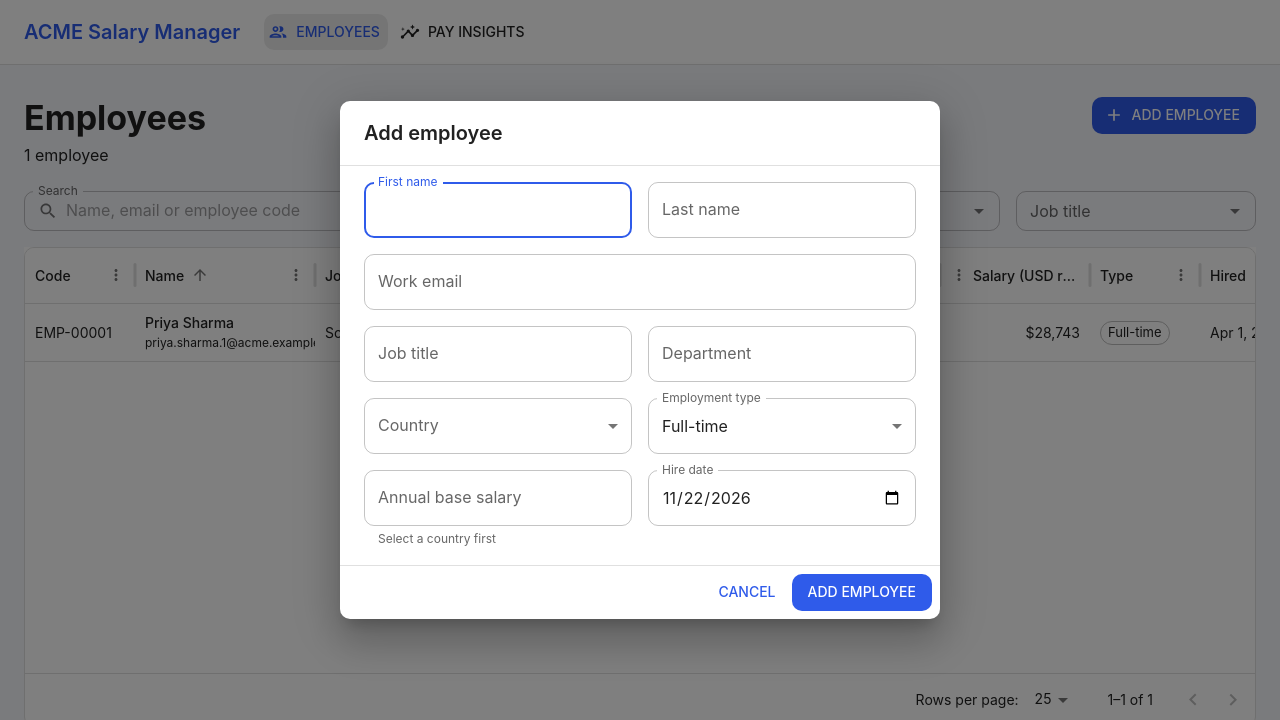
Test: managing employees › validates required fields before calling the API
Earlier steps of the test are not shown.
Press the mouse on the button "Add employee" at (862, 592), box top-left (792, 574), bottom-right (932, 611)
Press the mouse on the button "Add employee" at (862, 592), box top-left (792, 574), bottom-right (932, 611)
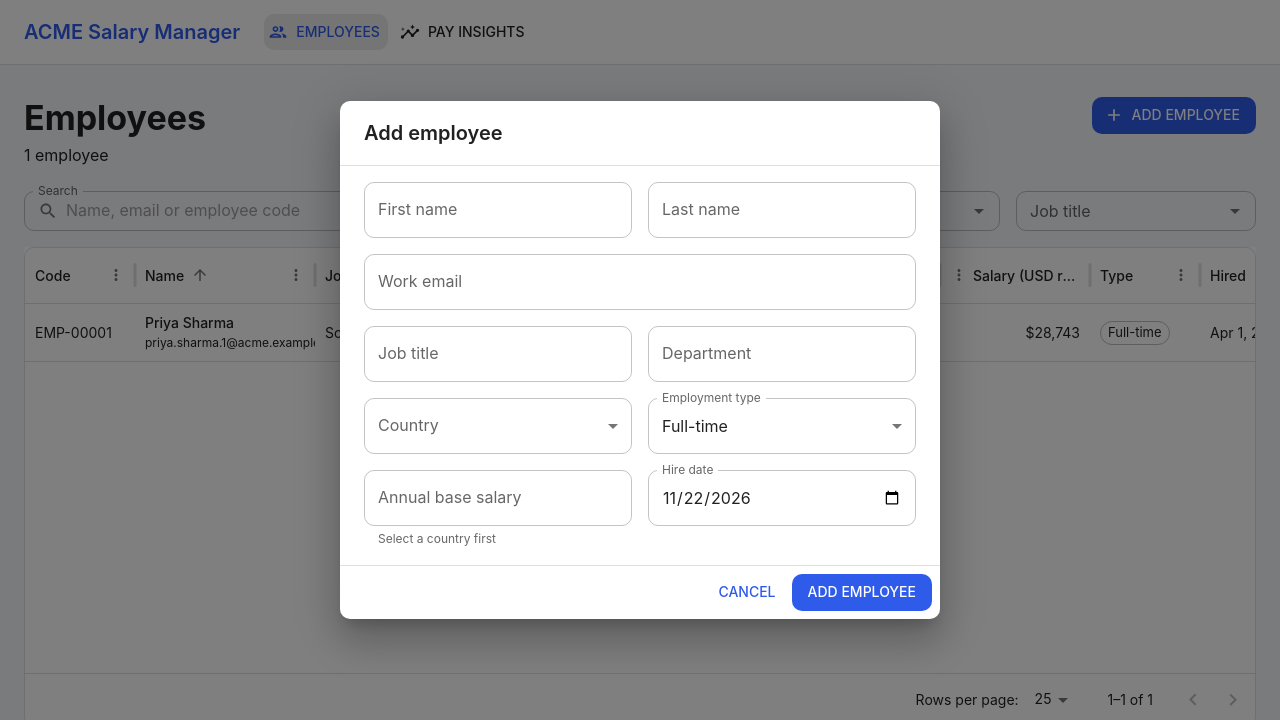
Click the button "Add employee" at (862, 592), box top-left (792, 574), bottom-right (932, 611)
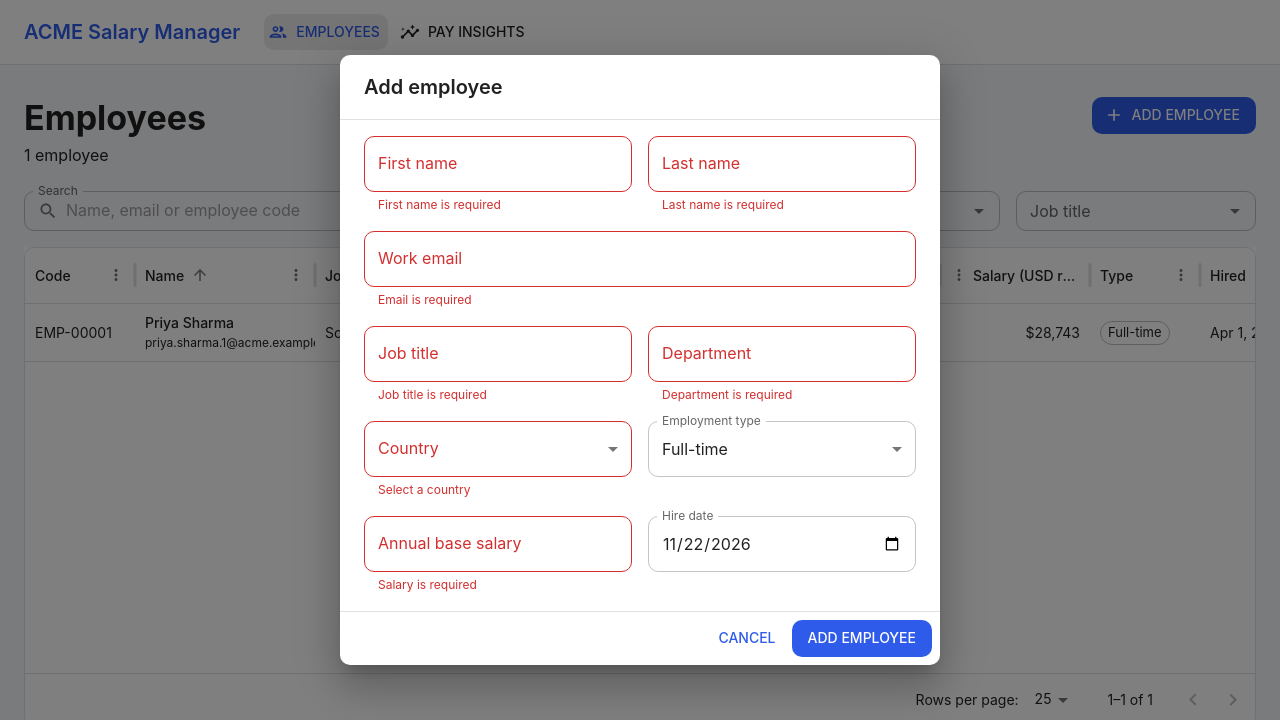
Expected: the text "Select a country" is shown, top-left (378, 482), bottom-right (470, 497)
Expected: the text "First name is required" is shown, top-left (378, 198), bottom-right (501, 212)
Expected: the text "Salary is required" is shown, top-left (378, 577), bottom-right (477, 592)
